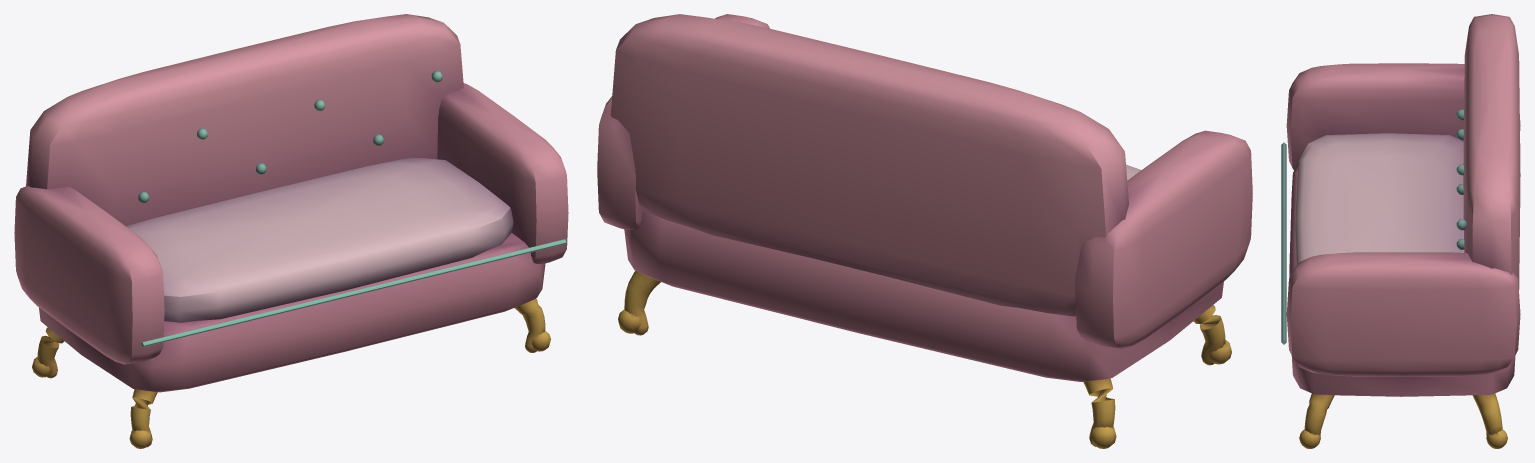
File: sofa_patisserie.glb
The picture shows the model from 3 angles, left to right: view 1: azimuth 30°, elevation 25°; view 2: azimuth 150°, elevation 25°; view 3: azimuth 270°, elevation 25°; orthographic projection. The views are drawn at different scales.
Visible parts, largest first — view 1: sofa_patisserie; view 2: sofa_patisserie; view 3: sofa_patisserie.
Part boxes in pixels (x1,y1,x2,y2): sofa_patisserie: (14,14,568,448); sofa_patisserie: (597,14,1252,448); sofa_patisserie: (1281,14,1520,448).
Size of the model in its own units: 1.92 by 1.13 by 0.92.
